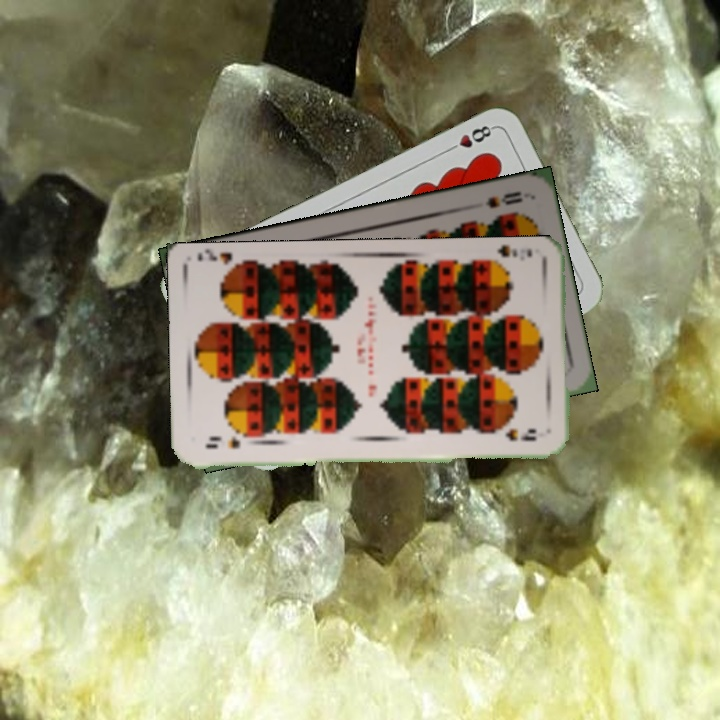H8: (442, 121, 498, 155)
S8: (482, 187, 526, 211)
S9: (482, 244, 535, 271), (201, 435, 243, 452)
